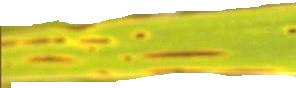0 BrownSpot: (22, 47, 86, 68), (1, 37, 115, 46), (143, 49, 229, 57), (125, 25, 160, 42), (283, 19, 296, 40), (122, 50, 132, 62)
